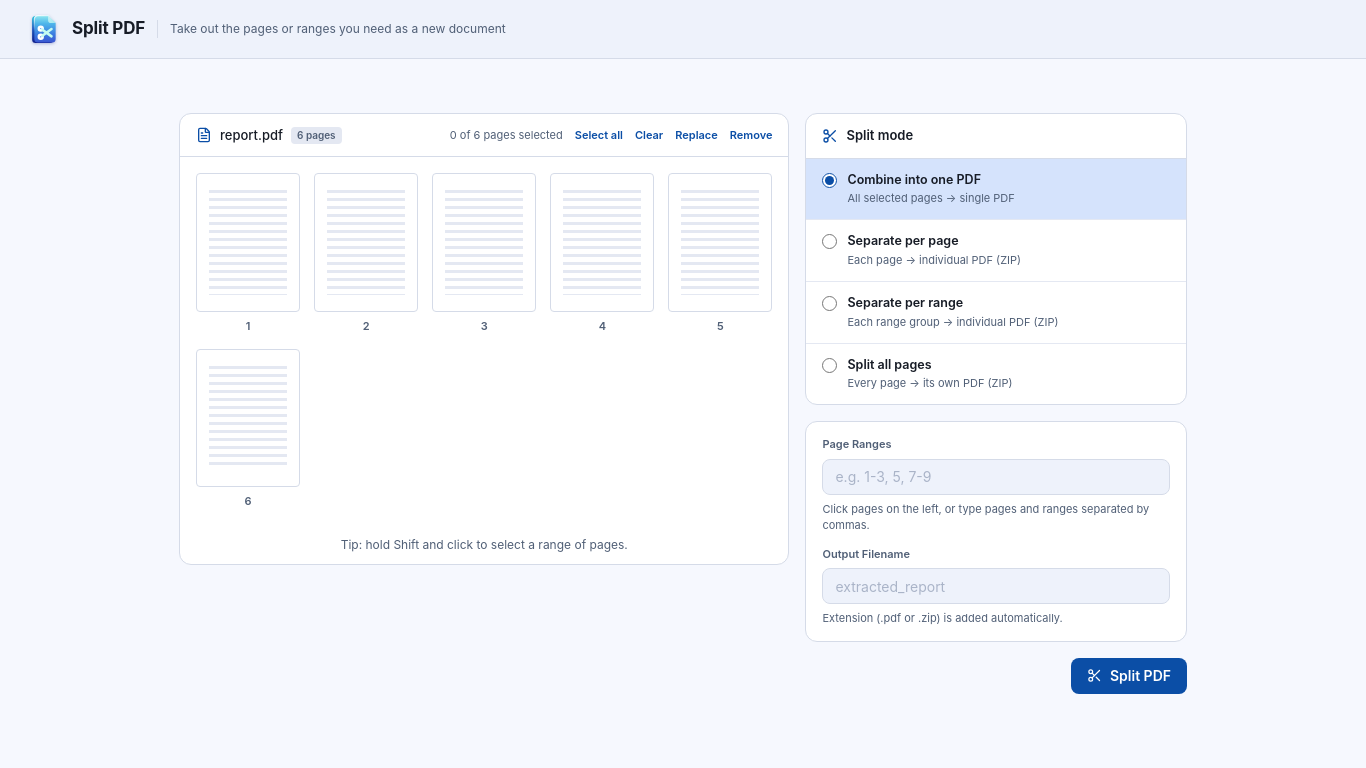
Test: extract page › explains a page range the core refused
Expected: the text "6 pages" is shown, x1=291 y1=127 x2=342 y2=144
Type "9" into the field with id "extract-page-ranges" at (996,477), box x1=822 y1=459 x2=1170 y2=495
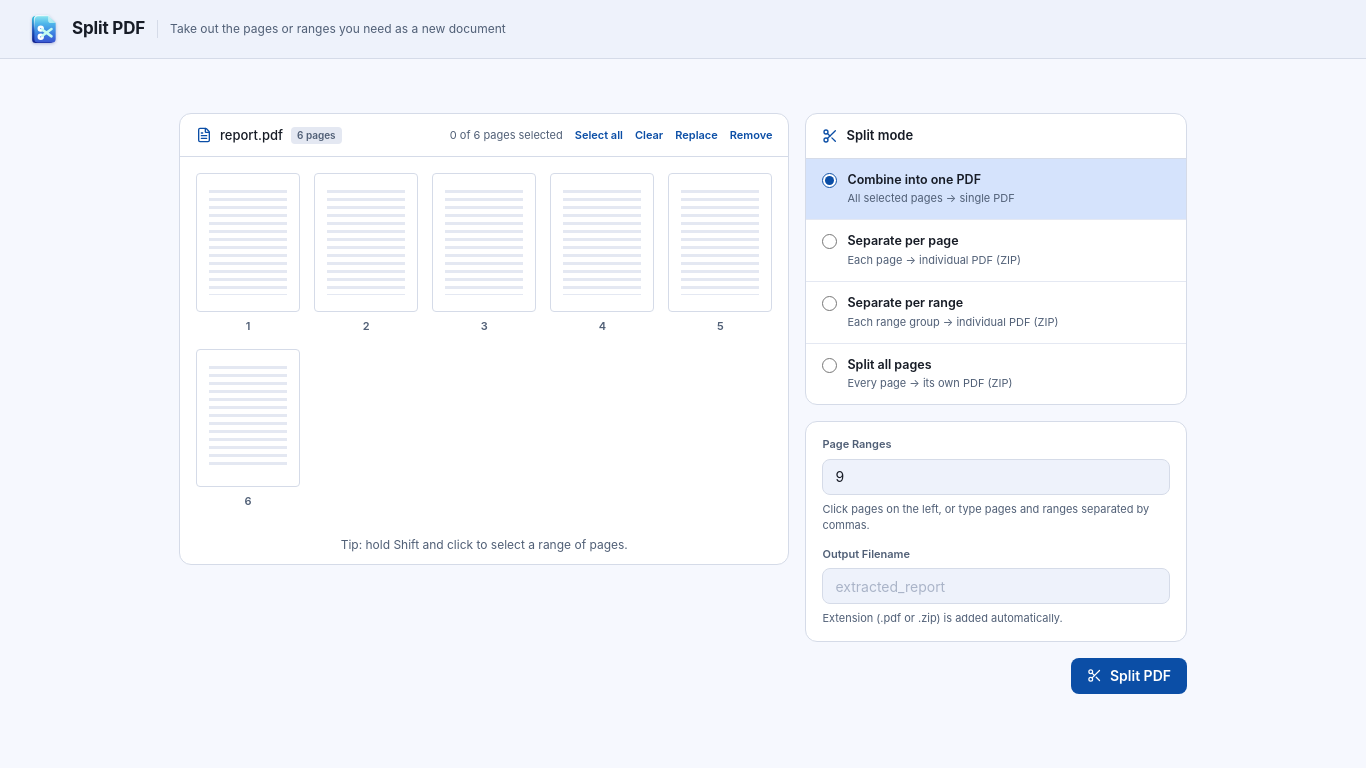
Click the button with id "extract-run-btn" at (1129,676), box x1=1071 y1=658 x2=1187 y2=694
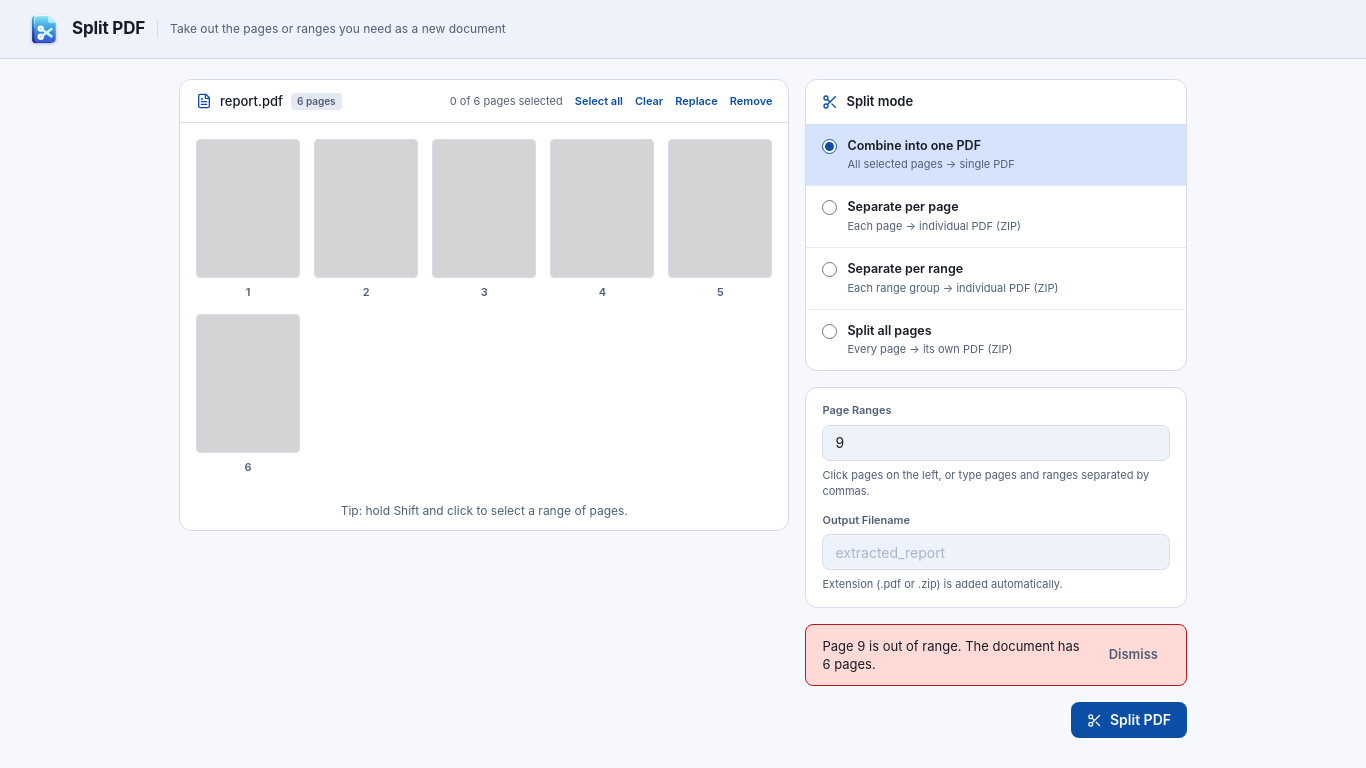
Expected: the button with id "extract-run-btn" is enabled, x1=1071 y1=702 x2=1187 y2=738
Result: the text "Page 9 is out of range. The document has 6 pages." is shown at x1=822 y1=637 x2=1085 y2=673
